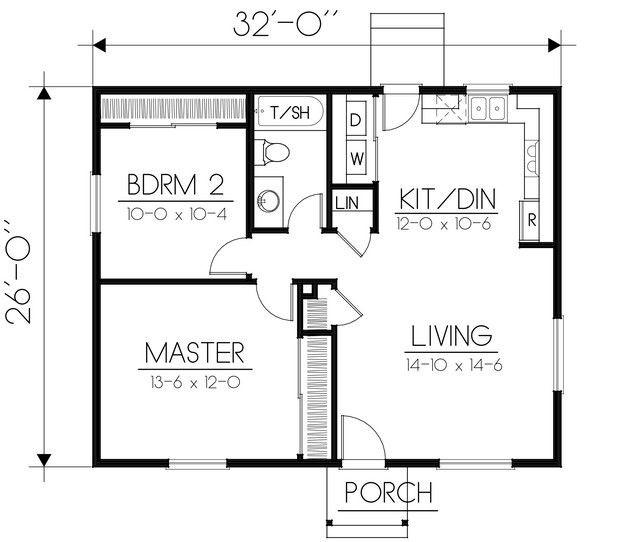door: (334, 406, 390, 475), (375, 82, 425, 133), (208, 234, 265, 276), (256, 270, 298, 326), (283, 187, 327, 230), (318, 286, 365, 326), (337, 229, 383, 260)
room: (327, 72, 565, 477), (93, 274, 339, 467), (83, 77, 256, 283), (240, 79, 333, 233)
wall: (546, 75, 567, 320), (99, 80, 383, 98), (85, 231, 104, 460), (242, 82, 261, 240), (97, 279, 260, 291), (325, 328, 339, 456), (549, 388, 569, 468), (227, 455, 336, 469), (324, 97, 335, 230), (92, 79, 104, 171), (511, 80, 564, 99), (364, 182, 383, 234), (513, 454, 556, 474), (330, 179, 385, 194), (385, 455, 442, 469), (88, 457, 167, 465)
window: (444, 446, 510, 474), (550, 319, 574, 394), (132, 119, 219, 138), (82, 179, 110, 232), (463, 82, 510, 106), (172, 454, 229, 472)
